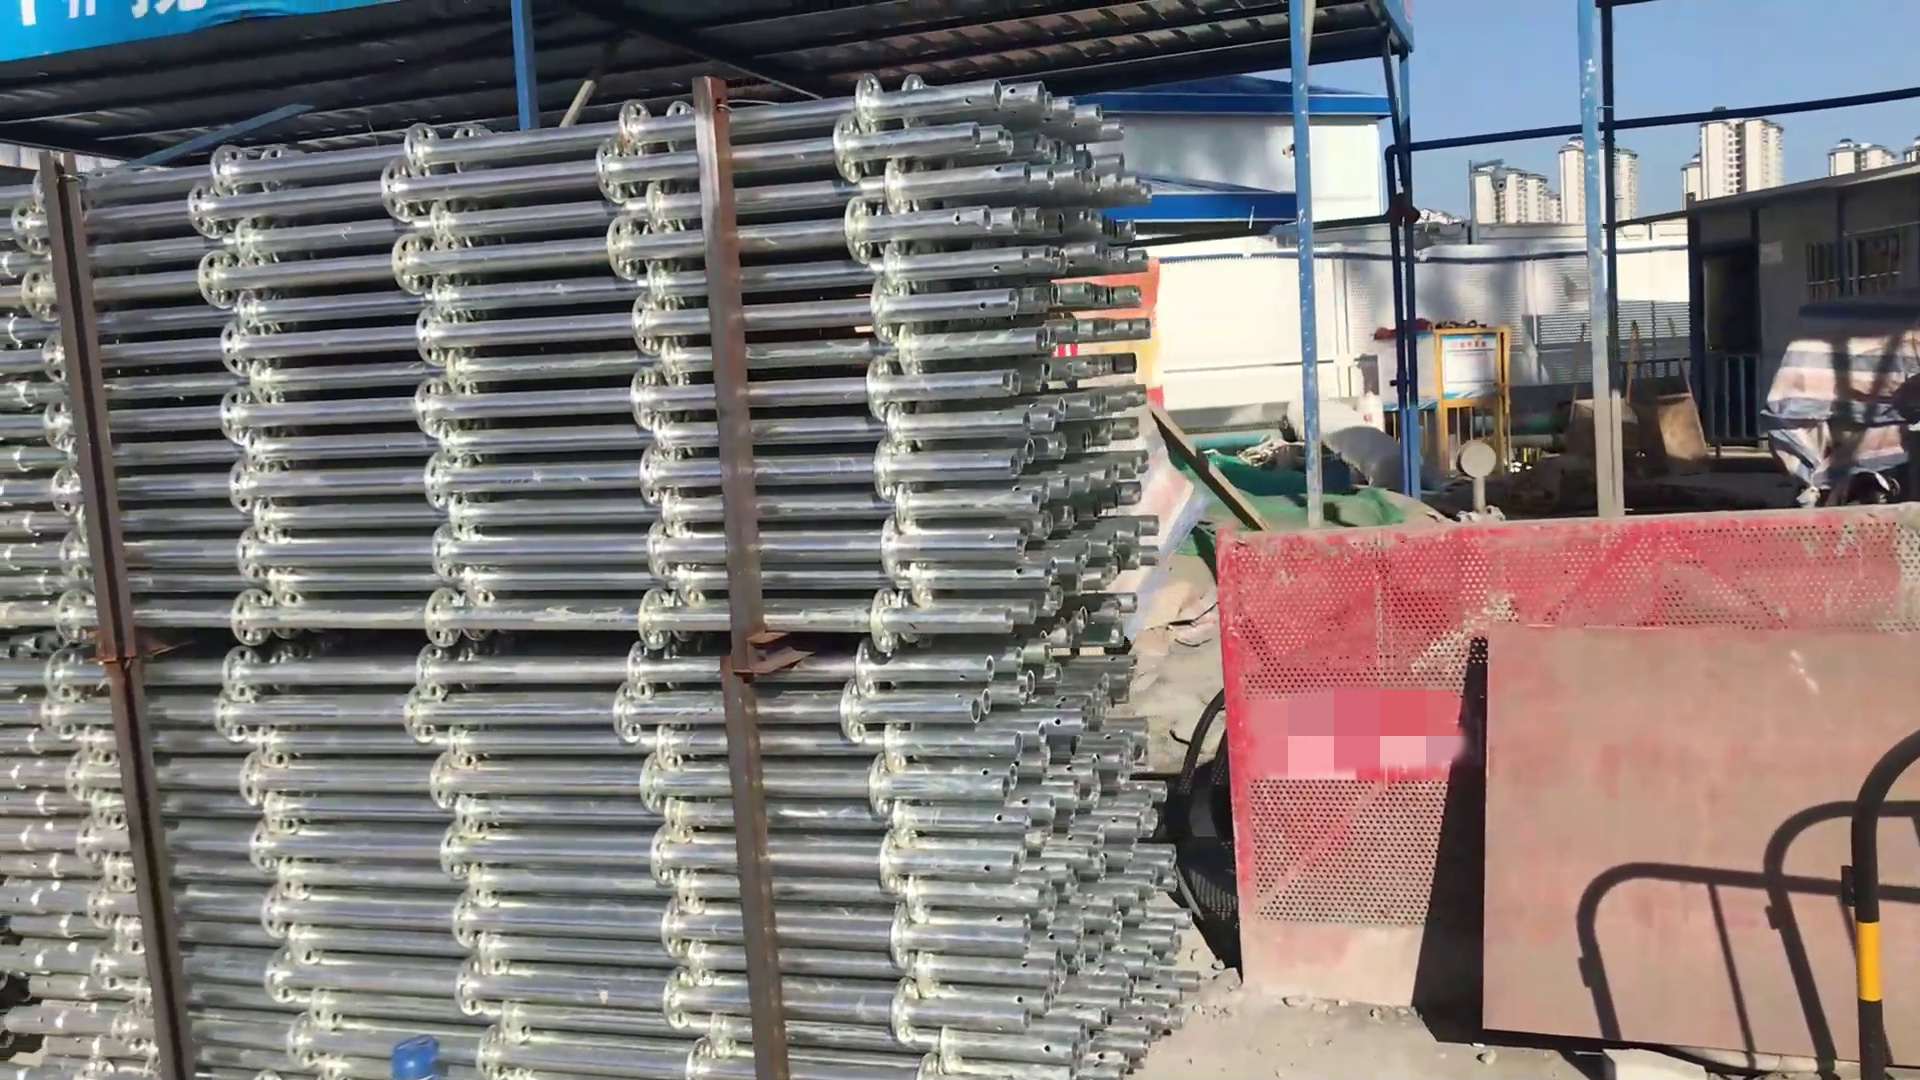fence: (1197, 485, 1838, 1058), (1836, 705, 1920, 1080)
scaffold: (5, 69, 1192, 1080)
